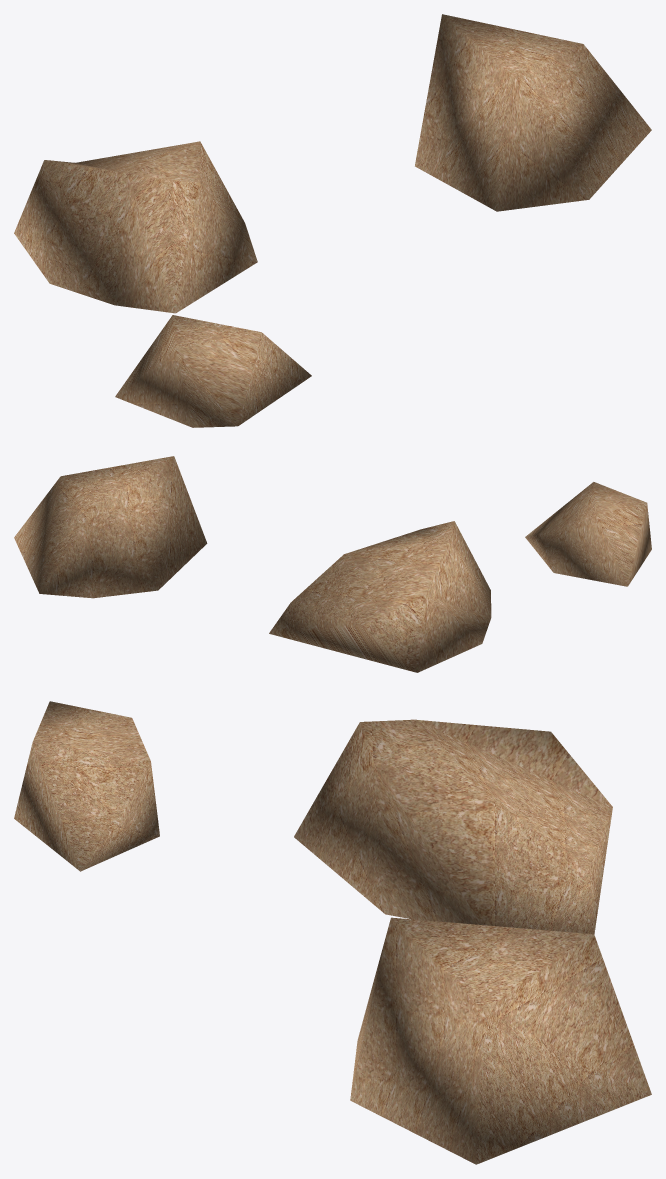
The model's file is rock_pebbleclump_a2_l2.fbx.
3 views of the same model, one above another, from view 1: azimuth 30°, elevation 25°; view 2: azimuth 150°, elevation 25°; view 3: azimuth 270°, elevation 25° (orthographic). The views are drawn at different scales.
Parts seen in each view (by area): view 1: mesh_node; view 2: mesh_node; view 3: mesh_node.
Boxes of the visible parts, x1,y1,x2,y2 form: mesh_node: (14,14,651,427); mesh_node: (14,456,651,672); mesh_node: (14,701,651,1164).
Bounding box in the file's own units: 1.01 × 0.1825 × 0.7007.
